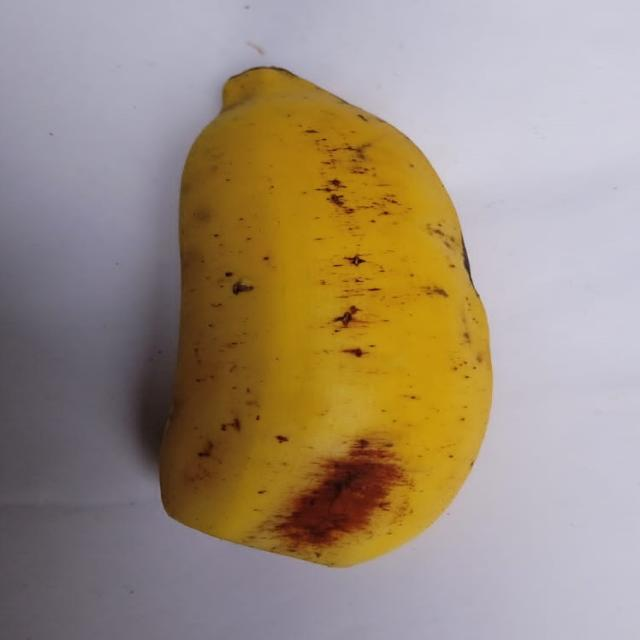banana: (161, 68, 491, 566)
